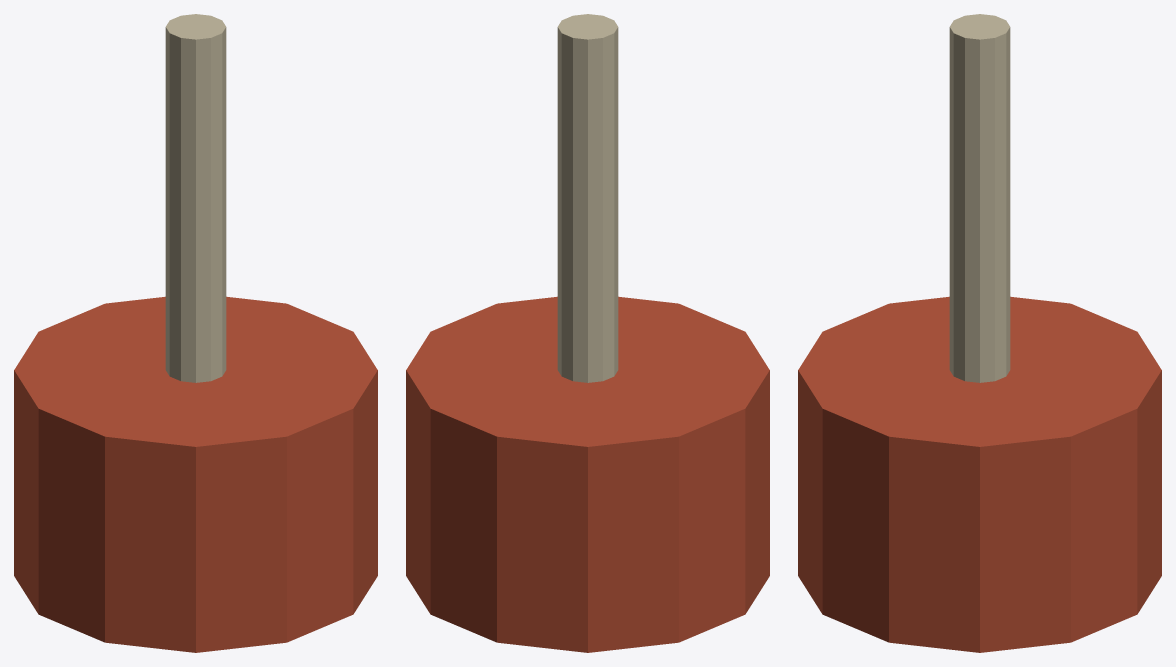
Rendered from mooring_buoy.glb.
3 views of the same model, side by side, from view 1: azimuth 30°, elevation 25°; view 2: azimuth 150°, elevation 25°; view 3: azimuth 270°, elevation 25° (orthographic).
Parts seen in each view (by area): view 1: mooring_buoy; view 2: mooring_buoy; view 3: mooring_buoy.
Part boxes in pixels (x1=…): mooring_buoy: x1=14, y1=14, x2=377, y2=652; mooring_buoy: x1=406, y1=14, x2=769, y2=652; mooring_buoy: x1=798, y1=14, x2=1161, y2=652.
Bounding box in the file's own units: 0.96 × 1.6 × 0.96.
